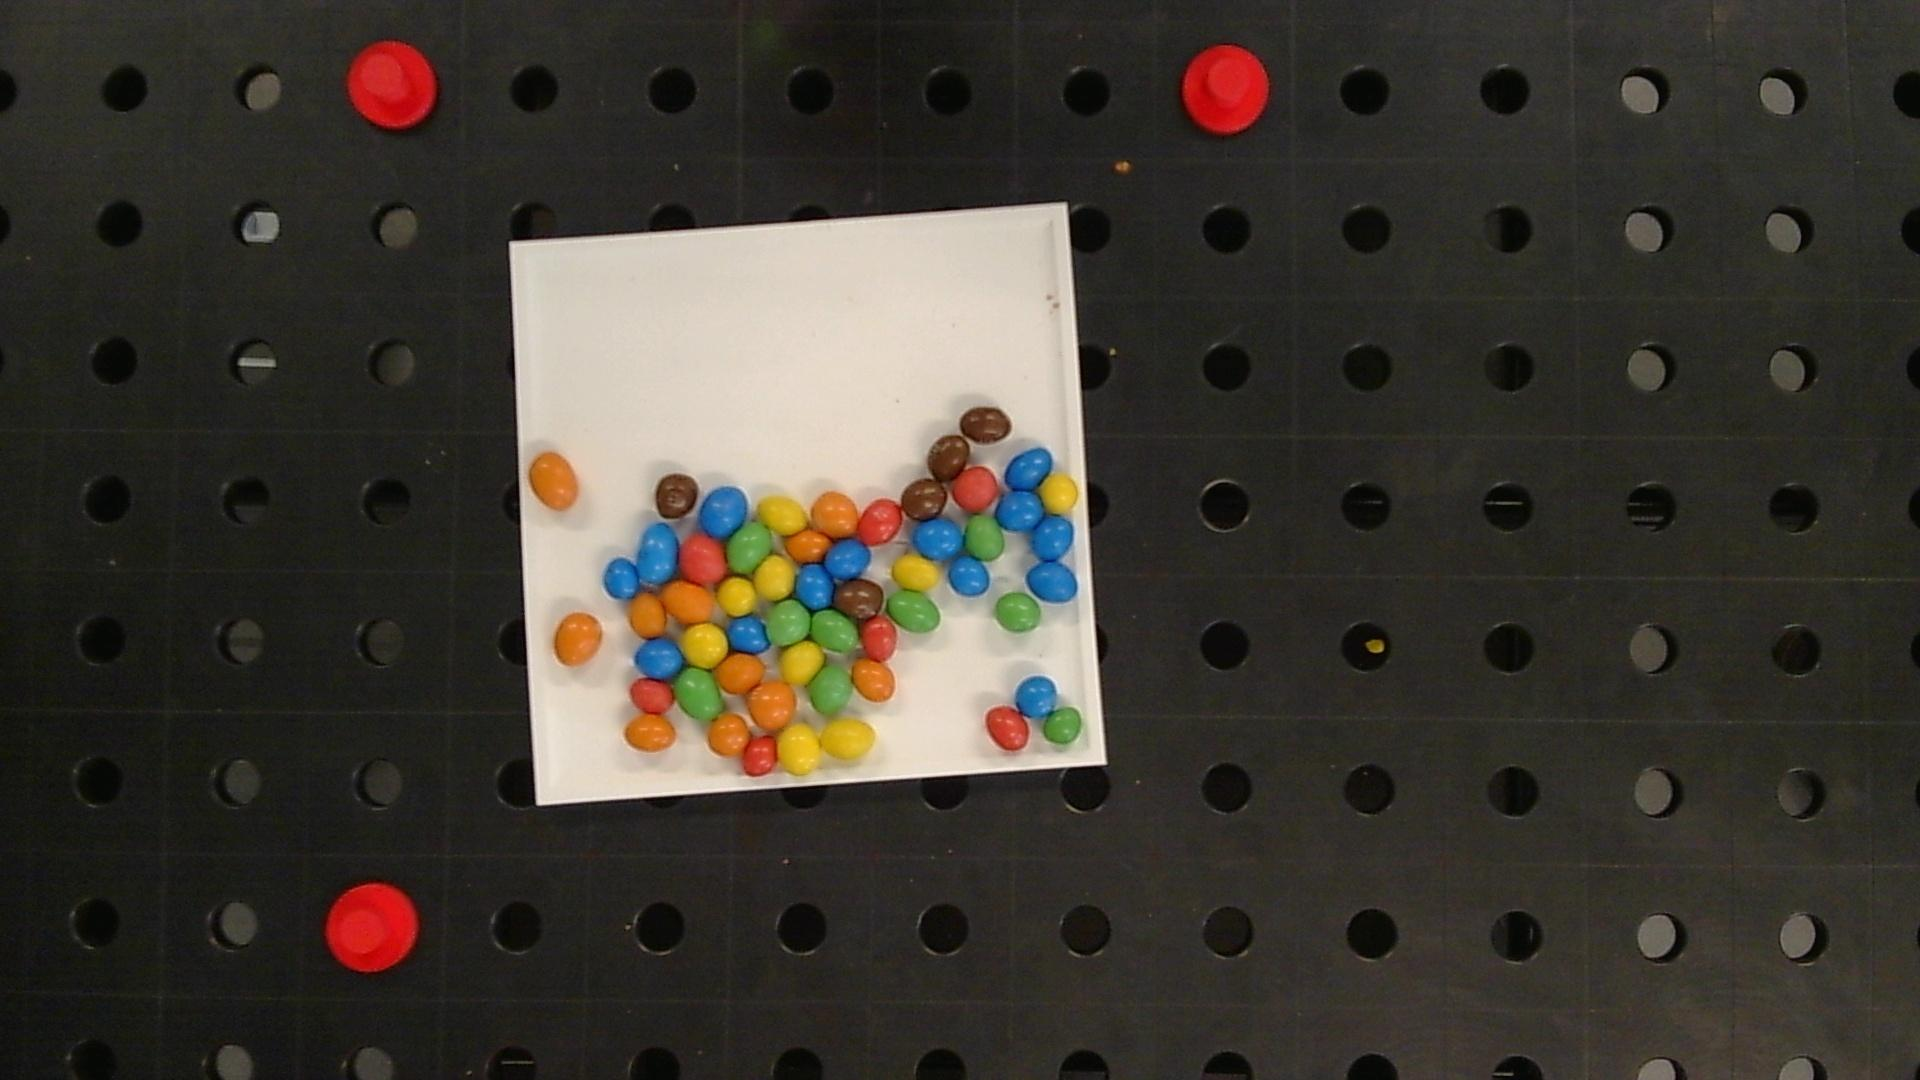blue: (637, 524, 679, 583), (699, 487, 746, 537), (913, 518, 963, 559), (1027, 560, 1077, 601), (636, 637, 683, 678), (1031, 516, 1073, 560), (1005, 450, 1052, 489), (997, 492, 1044, 530), (1015, 675, 1056, 716), (827, 539, 869, 579), (796, 564, 833, 608), (948, 556, 989, 595), (728, 616, 769, 650), (604, 558, 638, 599)
brown: (655, 472, 699, 518), (927, 434, 969, 480), (901, 477, 947, 520), (960, 406, 1011, 443), (836, 579, 882, 618)
green: (675, 667, 721, 720), (886, 591, 942, 633), (727, 522, 771, 572), (810, 666, 852, 713), (767, 600, 810, 645), (811, 609, 857, 650), (994, 593, 1042, 632), (965, 516, 1005, 560), (1043, 707, 1084, 745)
orange: (529, 451, 578, 509), (554, 612, 603, 665), (749, 680, 796, 731), (812, 491, 858, 537), (662, 579, 711, 622), (716, 653, 764, 694), (624, 716, 676, 752), (852, 659, 895, 702), (708, 713, 750, 756), (785, 529, 832, 562), (630, 593, 665, 637)
red: (680, 533, 725, 584), (856, 498, 903, 543), (952, 467, 998, 510), (985, 705, 1030, 749), (861, 618, 897, 661), (630, 679, 674, 713), (742, 737, 777, 775)
yellow: (820, 719, 876, 760), (777, 724, 820, 774), (682, 622, 727, 667), (758, 496, 808, 534), (779, 642, 823, 684), (754, 555, 795, 599), (891, 555, 939, 591), (1039, 475, 1079, 513), (717, 578, 756, 615)
